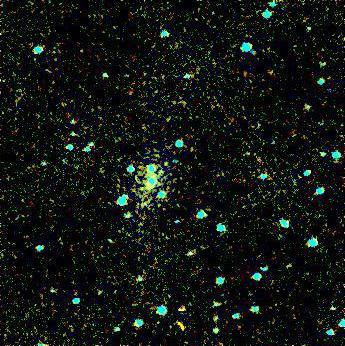star: (153, 149, 183, 179)
